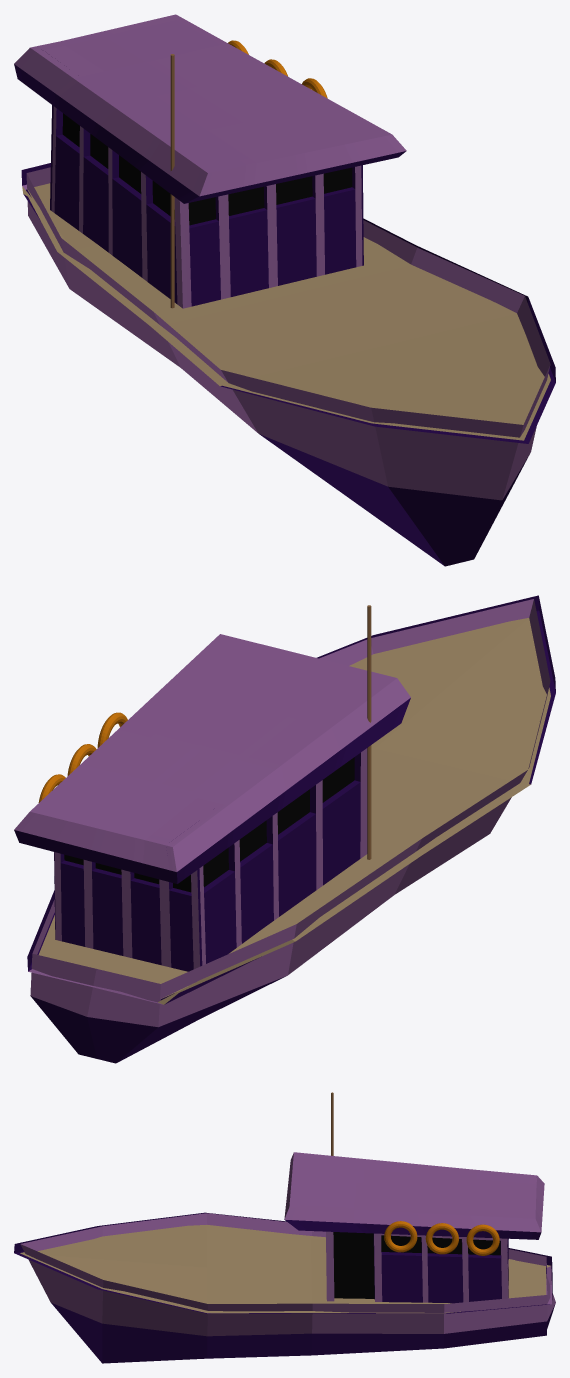
Rendered from Perahu NPC 1.fbx.
The picture shows the model from 3 angles, top to bottom: view 1: azimuth 30°, elevation 25°; view 2: azimuth 150°, elevation 25°; view 3: azimuth 270°, elevation 25°; orthographic projection. The views are drawn at different scales.
Visible parts, largest first — view 1: Cube; view 2: Cube; view 3: Cube.
Part boxes in pixels (<box>): Cube: <box>14,14,555,566</box>; Cube: <box>14,595,555,1063</box>; Cube: <box>14,1092,555,1363</box>.
Size of the model in its own units: 510 by 619 by 1280.
